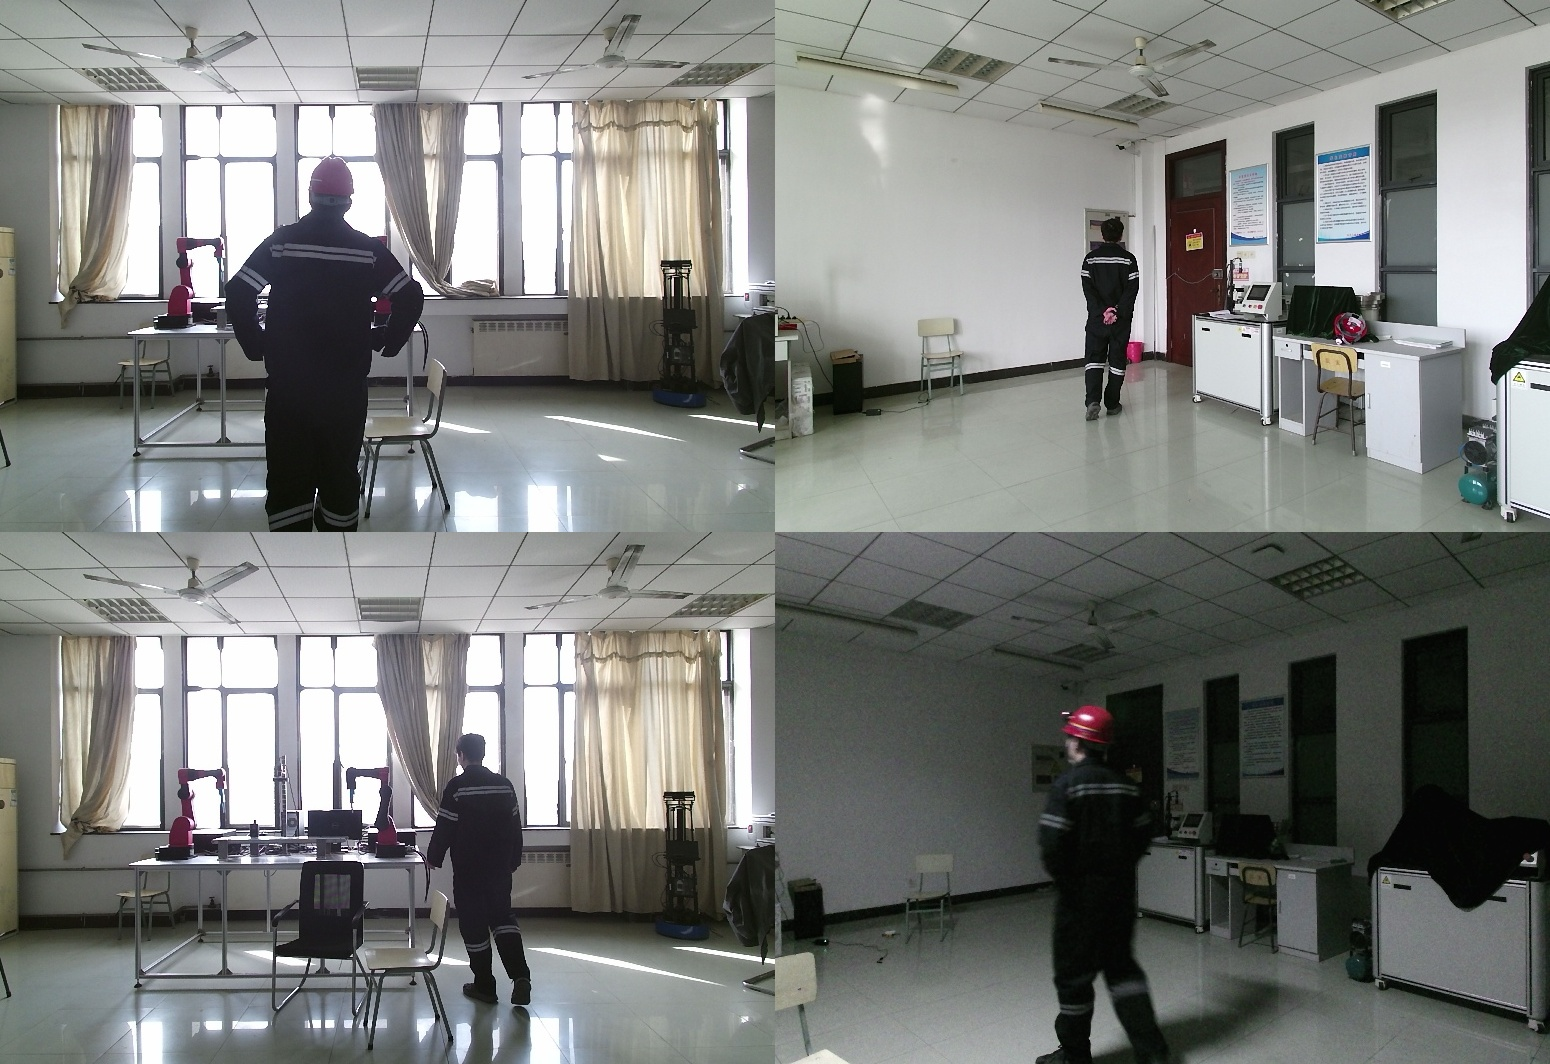person: (225, 157, 441, 532), (1028, 705, 1173, 1064), (432, 736, 538, 1006), (1074, 217, 1143, 426)
